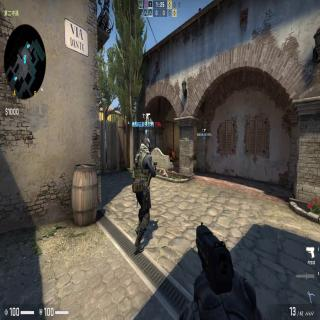CT-Body: (131, 138, 157, 250)
CT-Head: (142, 138, 152, 154)
